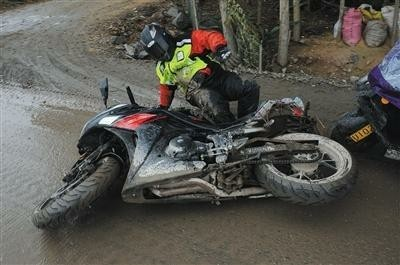falling: (130, 18, 274, 133)
